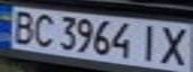3: (54, 14, 78, 52)
4: (109, 19, 136, 60)
6: (90, 18, 115, 56)
9: (72, 16, 96, 54)
B: (6, 8, 39, 45)
C: (27, 11, 57, 47)
I: (133, 21, 163, 62)
X: (154, 24, 193, 67)
